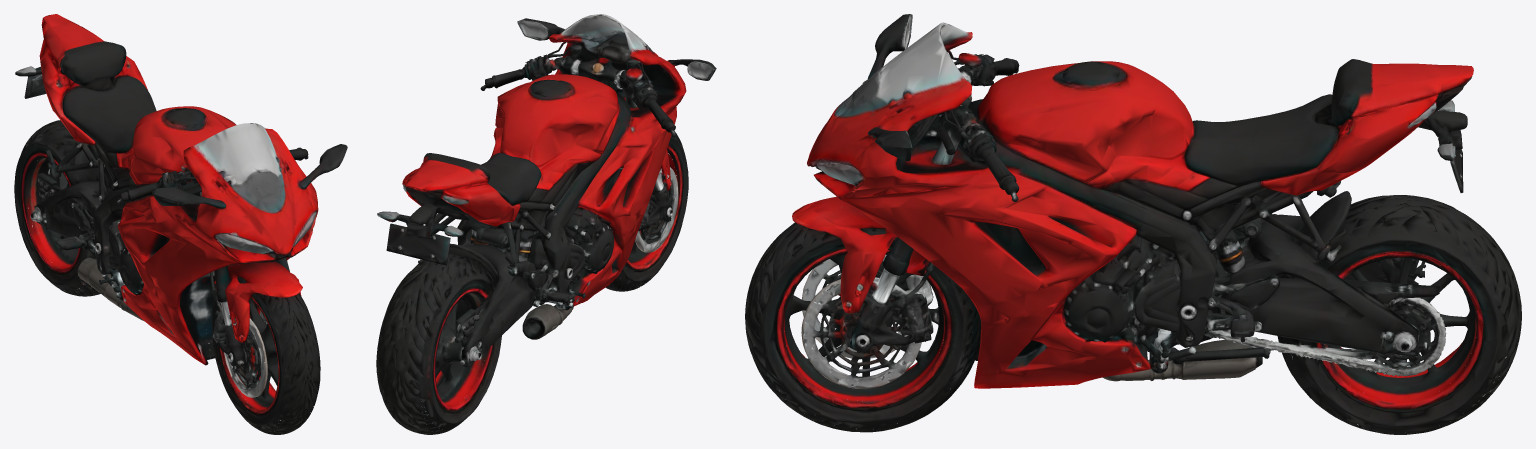
Rendered from bike.glb.
3 views of the same model, side by side, from view 1: azimuth 30°, elevation 25°; view 2: azimuth 150°, elevation 25°; view 3: azimuth 270°, elevation 25° (orthographic). The views are drawn at different scales.
Visible parts, largest first — view 1: motorcycle_body, wheel_rear, wheel_front; view 2: motorcycle_body, wheel_rear, wheel_front; view 3: motorcycle_body, wheel_rear, wheel_front.
Boxes of the visible parts, x1=… form: motorcycle_body: x1=14, y1=14, x2=347, y2=434; wheel_rear: x1=27, y1=158, x2=119, y2=296; wheel_front: x1=206, y1=299, x2=287, y2=433; motorcycle_body: x1=376, y1=14, x2=716, y2=434; wheel_rear: x1=380, y1=274, x2=494, y2=433; wheel_front: x1=605, y1=153, x2=676, y2=291; motorcycle_body: x1=745, y1=14, x2=1521, y2=432; wheel_rear: x1=1277, y1=250, x2=1507, y2=434; wheel_front: x1=770, y1=254, x2=981, y2=432.
Bounding box in the file's own units: 0.9936 × 1.4 × 2.45.
1 material, 1 textured.
